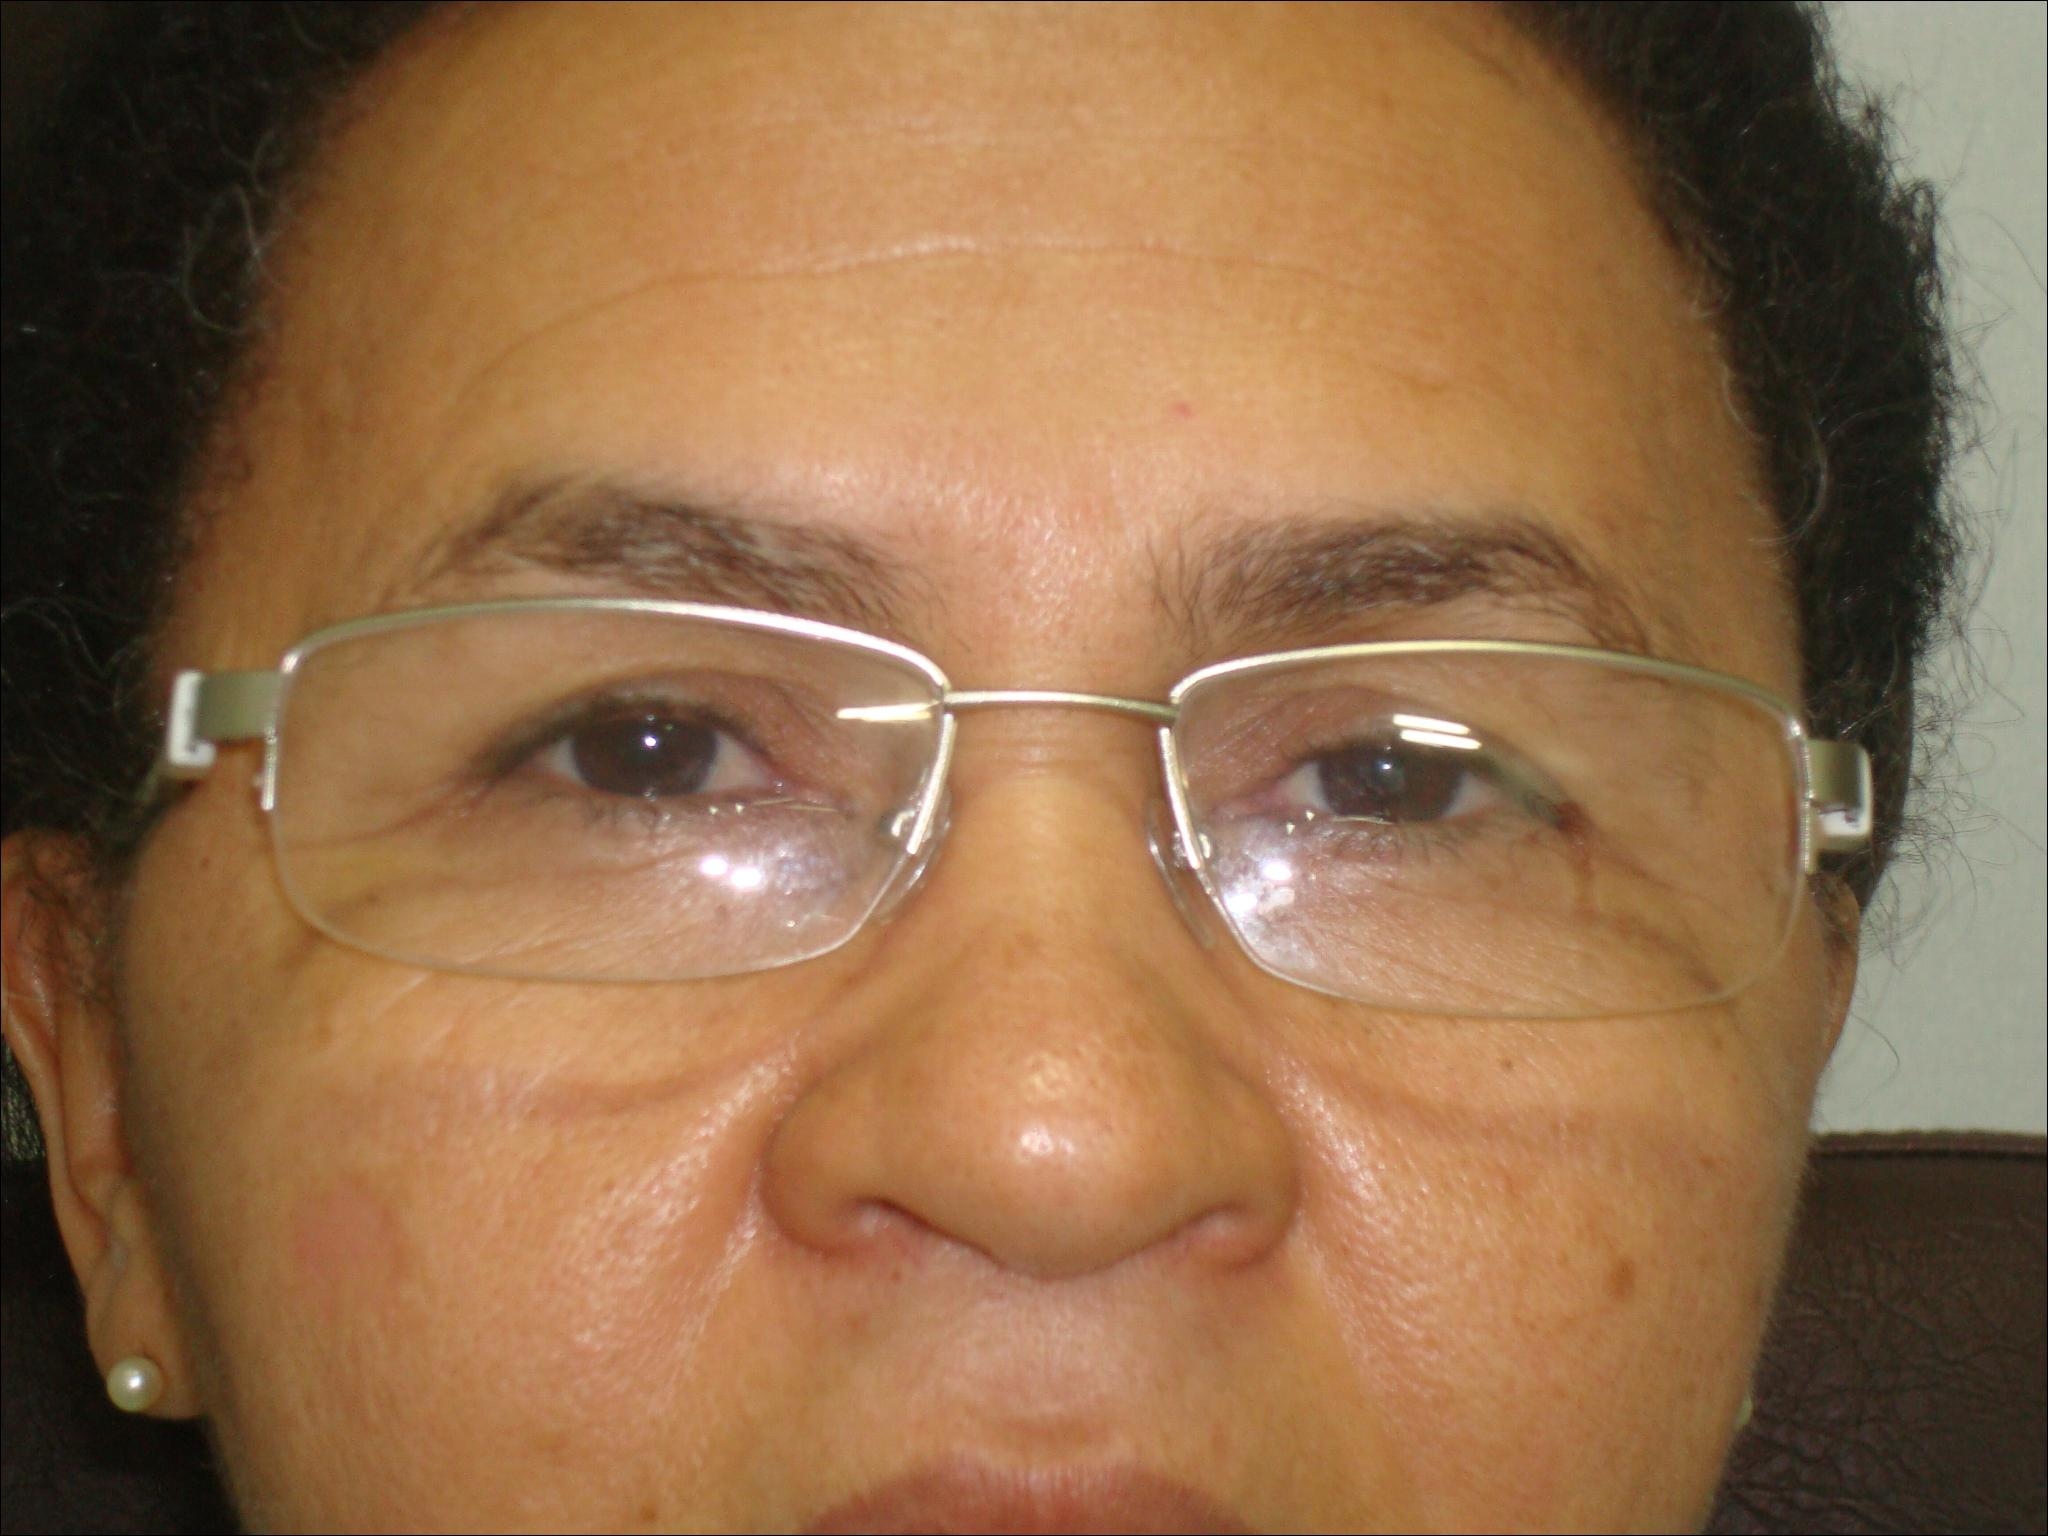flash: (640, 733, 660, 752), (1377, 757, 1395, 776)
limbo: (1314, 703, 1455, 834), (572, 682, 719, 807)
